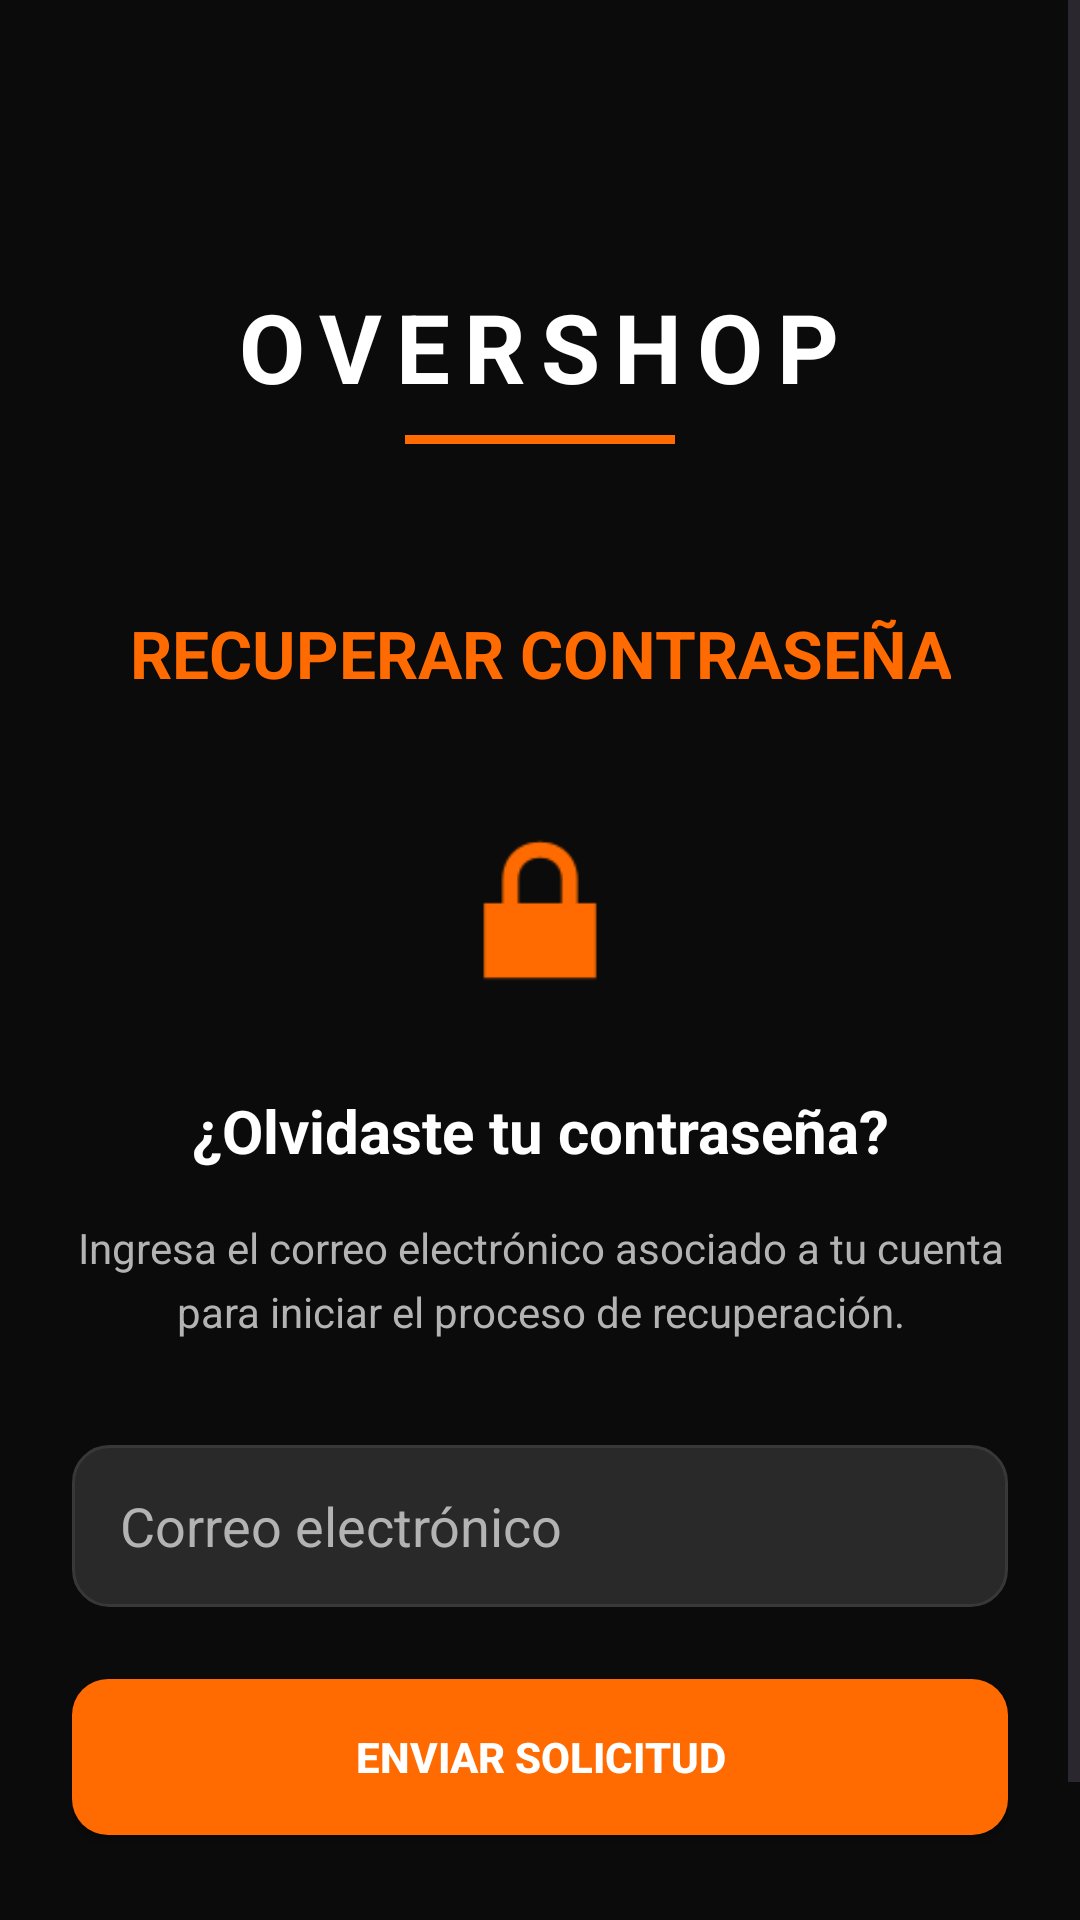

Icon bounding boxes for this 1080px×1920px phone screenshot, format [left=x1, top=y1, right=x2, bottom=y2]:
Recuperación de contraseña: [left=483, top=840, right=597, bottom=980]
